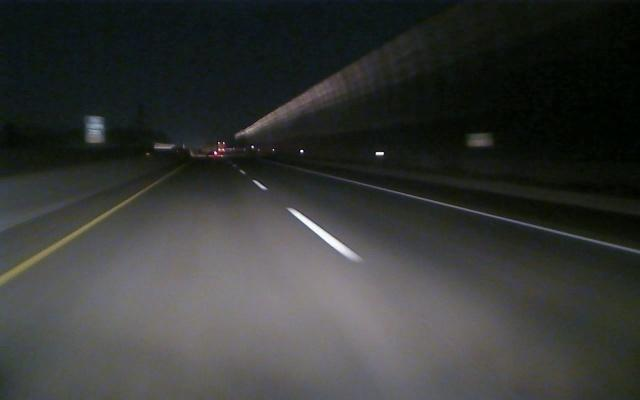lane: (332, 176, 639, 256), (1, 198, 131, 284), (253, 180, 367, 263)
